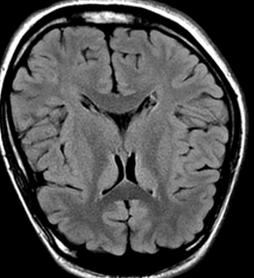Normal_Brain: (1, 1, 254, 278)
